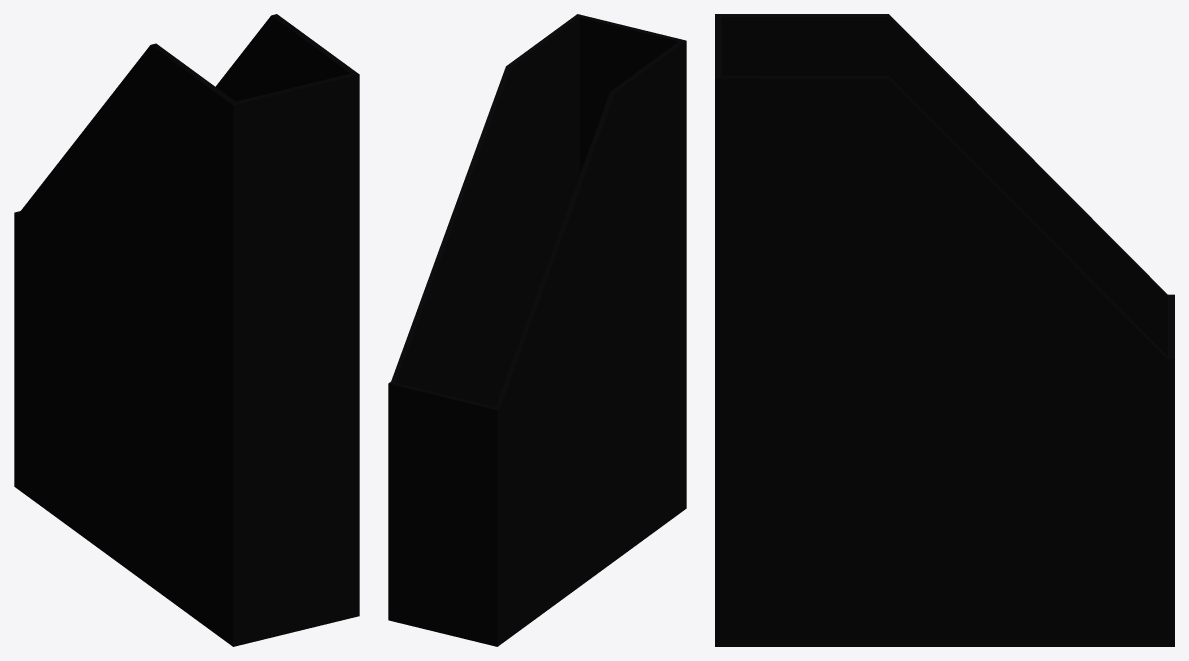
Rendered from Paper Holder(Verticle)_lod3.fbx.
3 renders of one model, left to right at view 1: azimuth 30°, elevation 25°; view 2: azimuth 150°, elevation 25°; view 3: azimuth 270°, elevation 25°, orthographic. The views are drawn at different scales.
Parts seen in each view (by area): view 1: Paper_Holder_Verticle_; view 2: Paper_Holder_Verticle_; view 3: Paper_Holder_Verticle_.
Boxes of the visible parts, x1,y1,x2,y2 form: Paper_Holder_Verticle_: (14, 14, 359, 646); Paper_Holder_Verticle_: (388, 14, 686, 646); Paper_Holder_Verticle_: (715, 14, 1174, 646).
Bounding box in the file's own units: 1.1 × 4.5 × 3.3.
